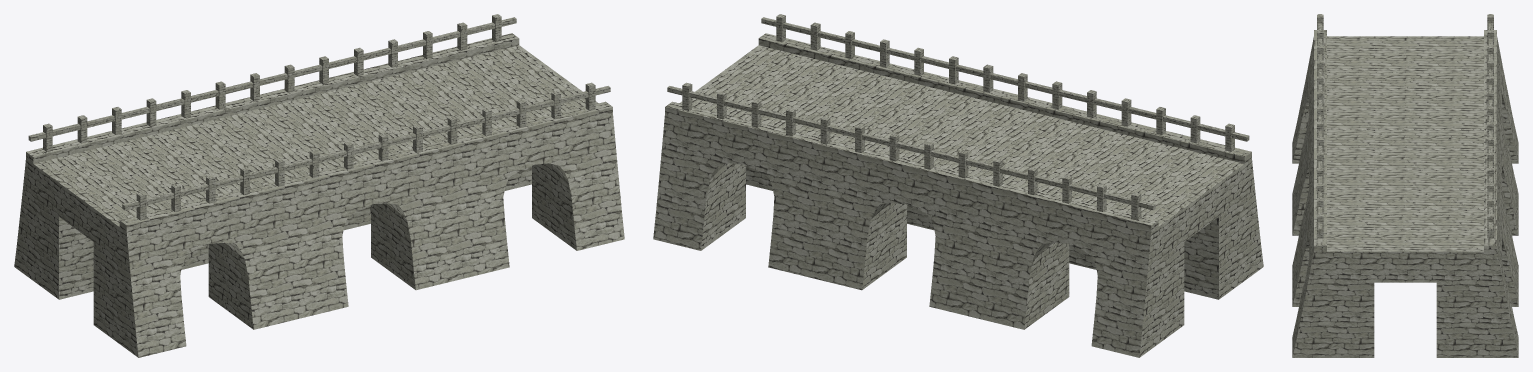
Rendered from Ishibashi.fbx.
The picture shows the model from 3 angles, left to right: view 1: azimuth 30°, elevation 25°; view 2: azimuth 150°, elevation 25°; view 3: azimuth 270°, elevation 25°; orthographic projection. The views are drawn at different scales.
Visible parts, largest first — view 1: Ishibashi, fence2, fence1; view 2: Ishibashi, fence1, fence2; view 3: Ishibashi, fence1, fence2.
Boxes of the visible parts, <box> form: Ishibashi: <box>14,33,624,357</box>; fence2: <box>122,82,610,220</box>; fence1: <box>28,14,516,151</box>; Ishibashi: <box>653,33,1263,357</box>; fence1: <box>667,82,1155,220</box>; fence2: <box>761,14,1249,151</box>; Ishibashi: <box>1292,30,1518,357</box>; fence1: <box>1487,14,1493,238</box>; fence2: <box>1317,14,1323,238</box>.
Bounding box in the file's own units: 1063 × 309 × 471.
